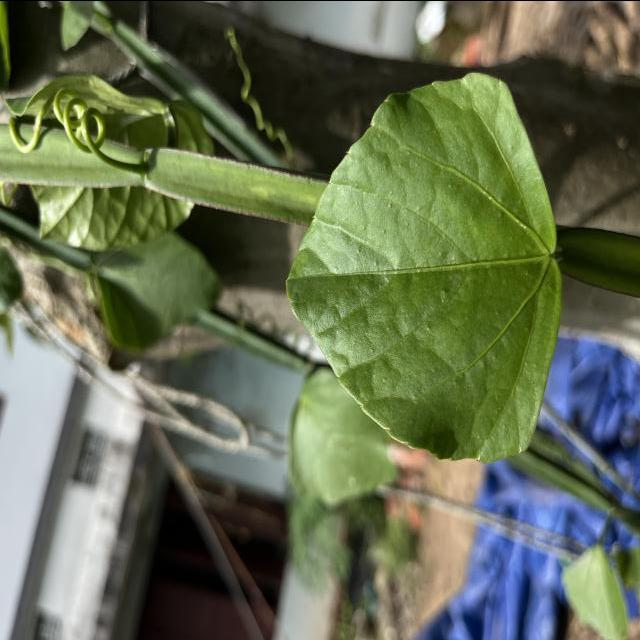Cissus quadrangularis: (282, 68, 566, 466)
